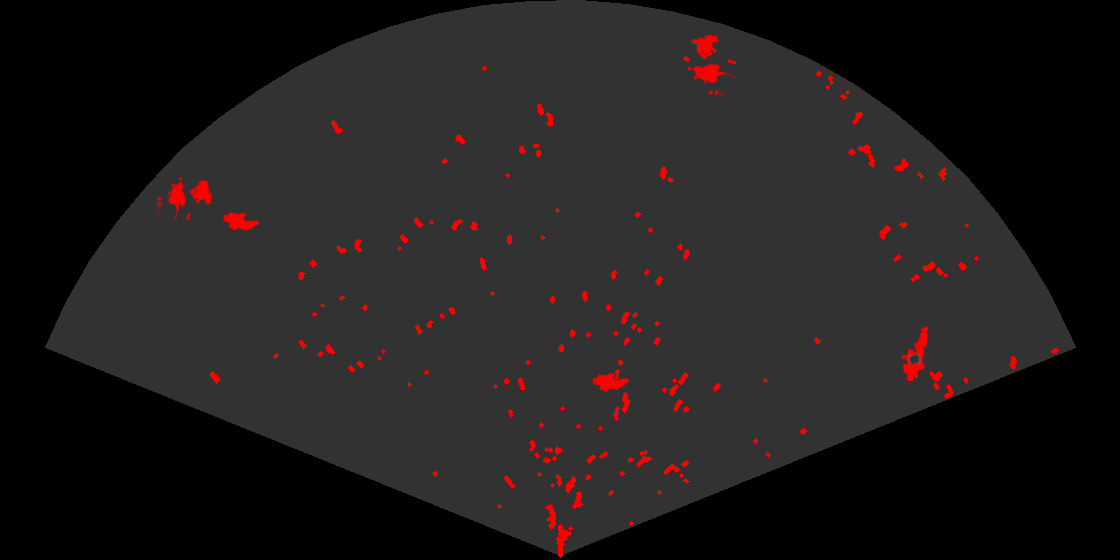AUV: (590, 372, 631, 394), (221, 210, 261, 232)
cage: (685, 33, 736, 95), (157, 175, 214, 220)
frogman: (899, 325, 930, 381)
